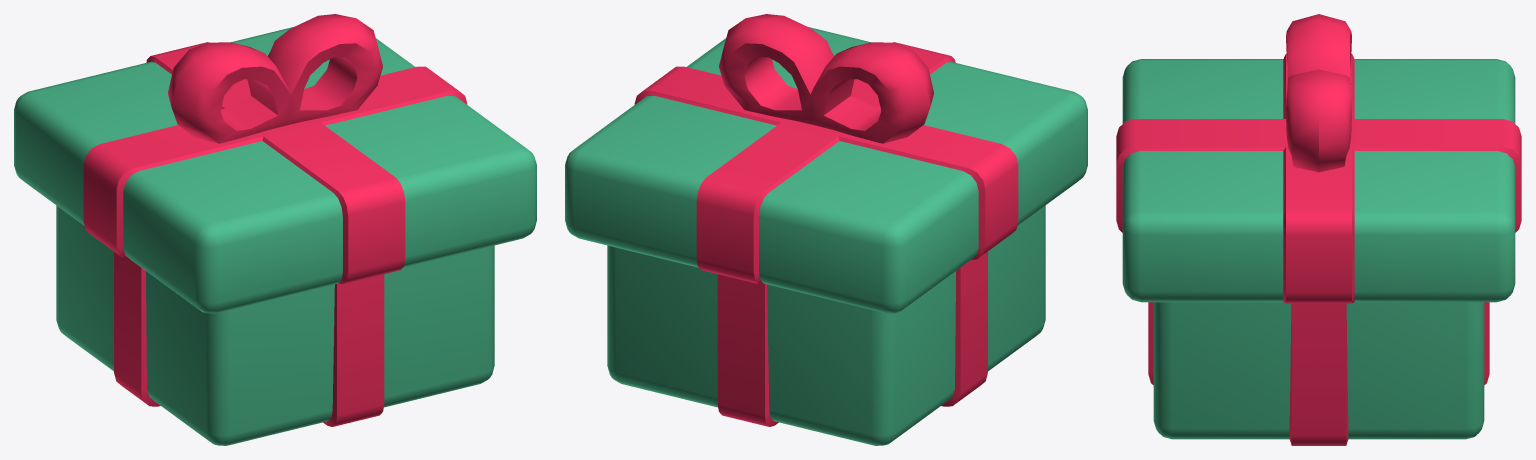
Rendered from giftA.gltf.glb.
3 renders of one model, left to right at view 1: azimuth 30°, elevation 25°; view 2: azimuth 150°, elevation 25°; view 3: azimuth 270°, elevation 25°, orthographic.
Visible parts, largest first — view 1: giftA; view 2: giftA; view 3: giftA.
Boxes of the visible parts, left/top/right/bottom form: giftA: left=14, top=14, right=536, bottom=445; giftA: left=565, top=14, right=1087, bottom=445; giftA: left=1116, top=14, right=1521, bottom=445.
Size of the model in its own units: 1.23 by 1.1 by 1.23.
